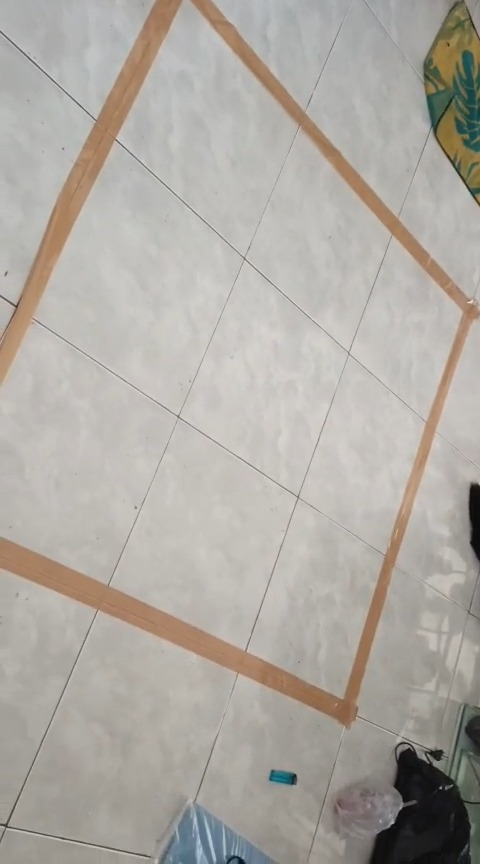floor marking: (0, 0, 479, 726), (0, 0, 181, 382)
